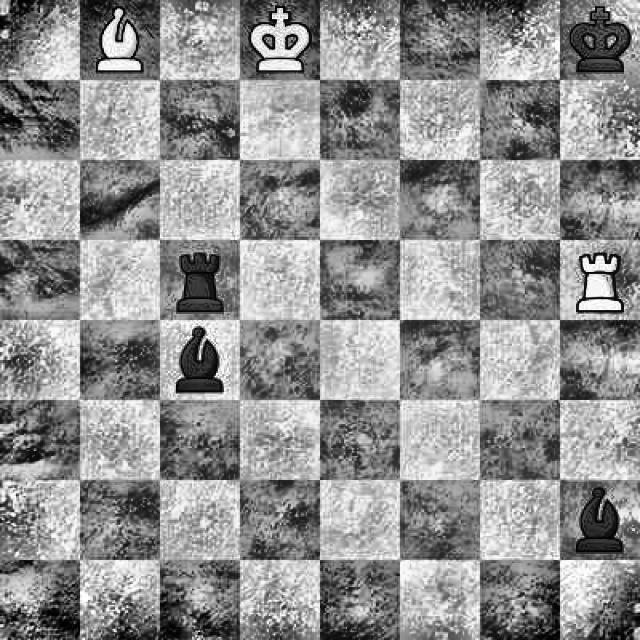black bishop: (170, 326, 235, 398), (571, 485, 627, 559)
black king: (568, 0, 634, 78)
black rook: (172, 244, 228, 316)
white bishop: (92, 6, 148, 76)
white king: (251, 0, 310, 77)
white rook: (566, 252, 634, 318)
